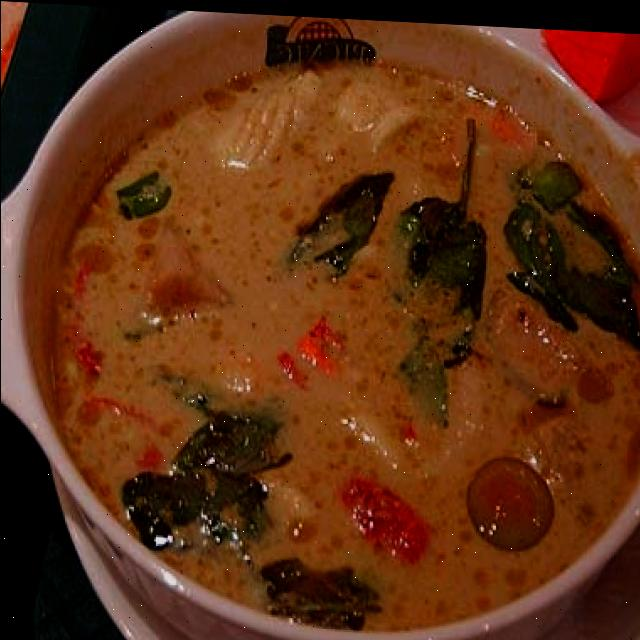炸货点心: (27, 1, 640, 608)
